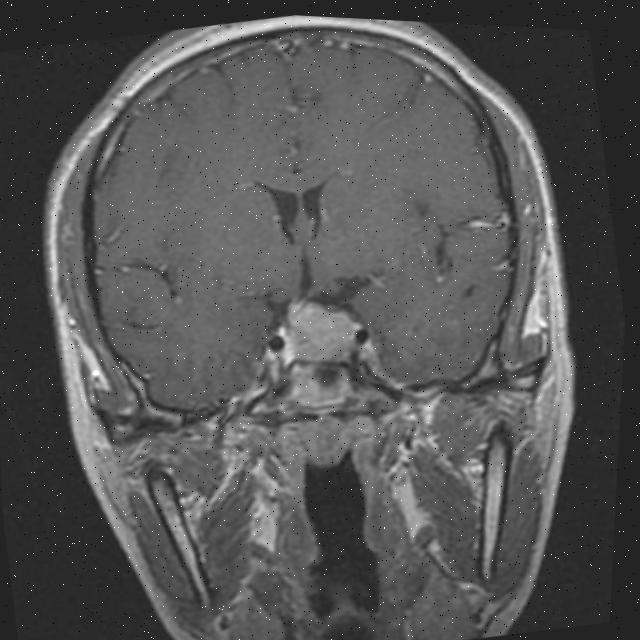Pituitary: (274, 288, 362, 368), (280, 353, 361, 422)
